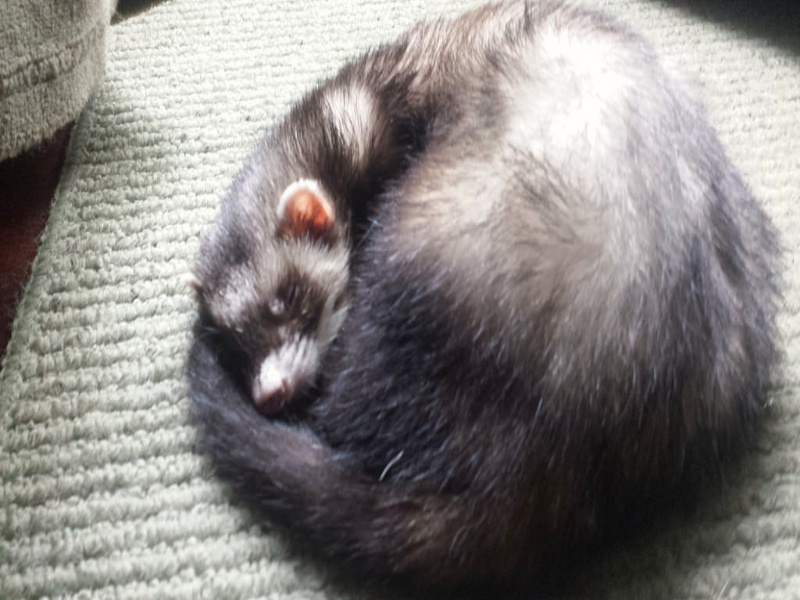minkish: (185, 1, 786, 590)
